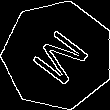M_SE: (23, 22, 93, 89)
